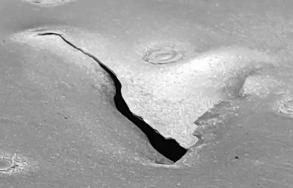crack: (0, 1, 293, 188)
